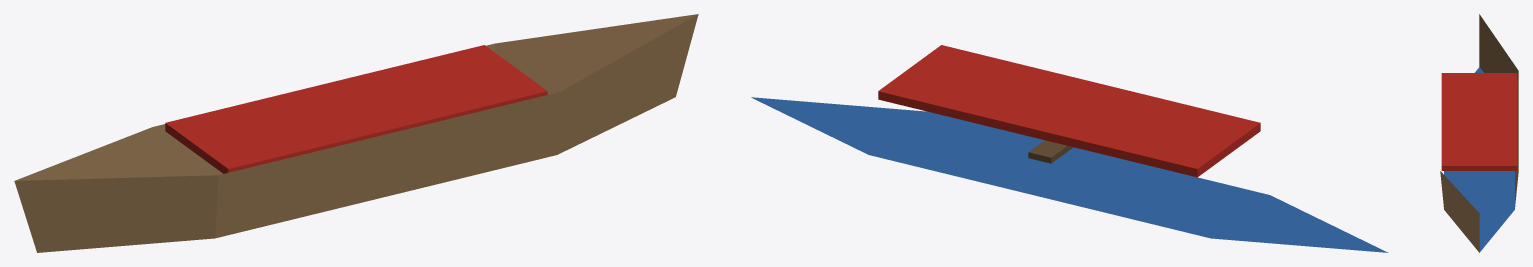
The model's file is canoa_praia.glb.
3 renders of one model, left to right at view 1: azimuth 30°, elevation 25°; view 2: azimuth 150°, elevation 25°; view 3: azimuth 270°, elevation 25°, orthographic. The views are drawn at different scales.
Parts seen in each view (by area): view 1: canoa_praia; view 2: canoa_praia; view 3: canoa_praia.
Part boxes in pixels (x1,y1,x2,y2): canoa_praia: [14, 14, 698, 252]; canoa_praia: [751, 45, 1388, 252]; canoa_praia: [1440, 14, 1518, 252].
Size of the model in its own units: 6 by 0.65 by 1.
